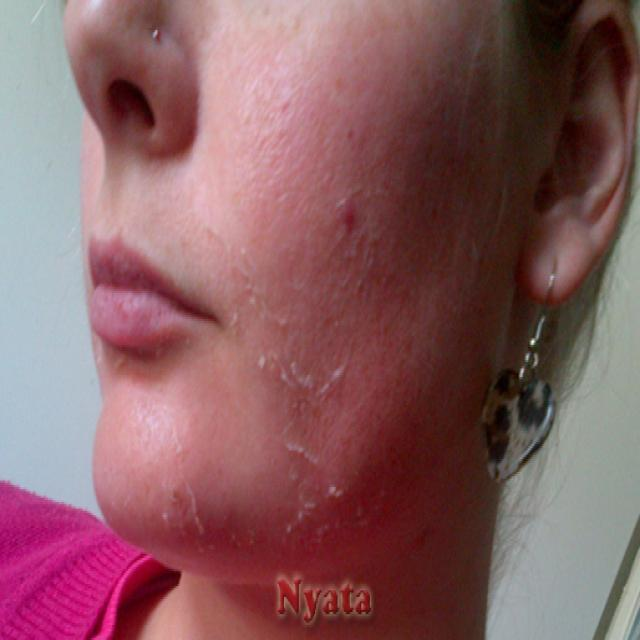dry: (263, 336, 357, 422), (288, 442, 358, 548), (144, 464, 212, 541)
